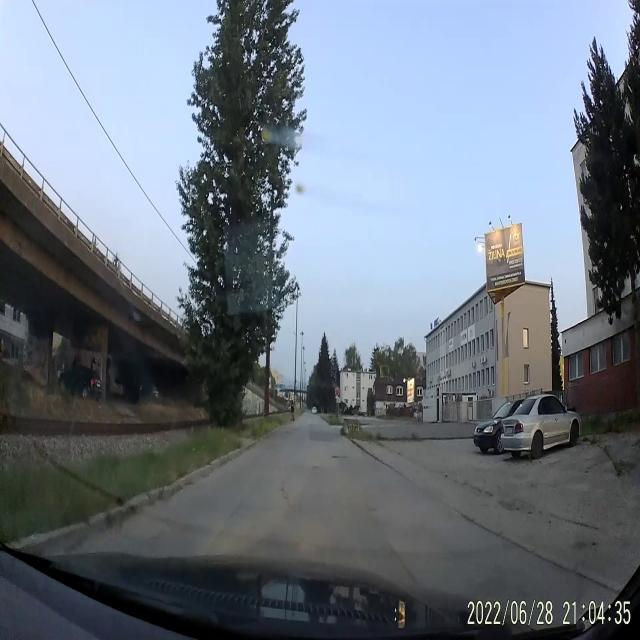Pothole: (329, 452, 352, 464)
